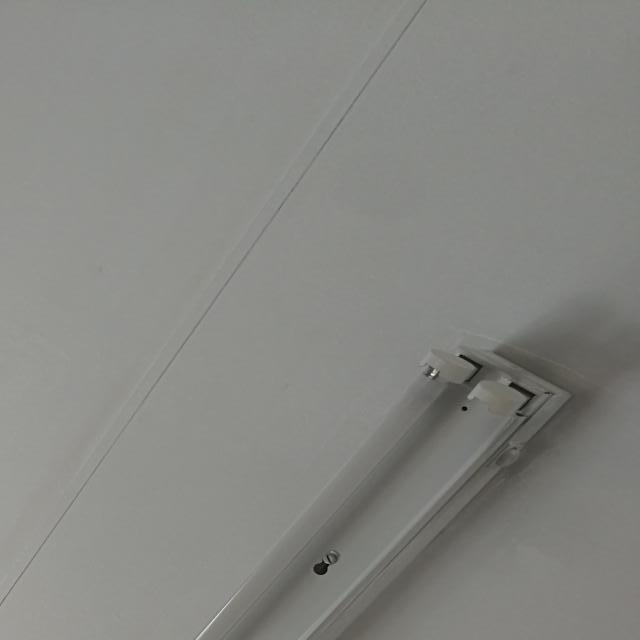fluorescent tube: (0, 319, 576, 639)
